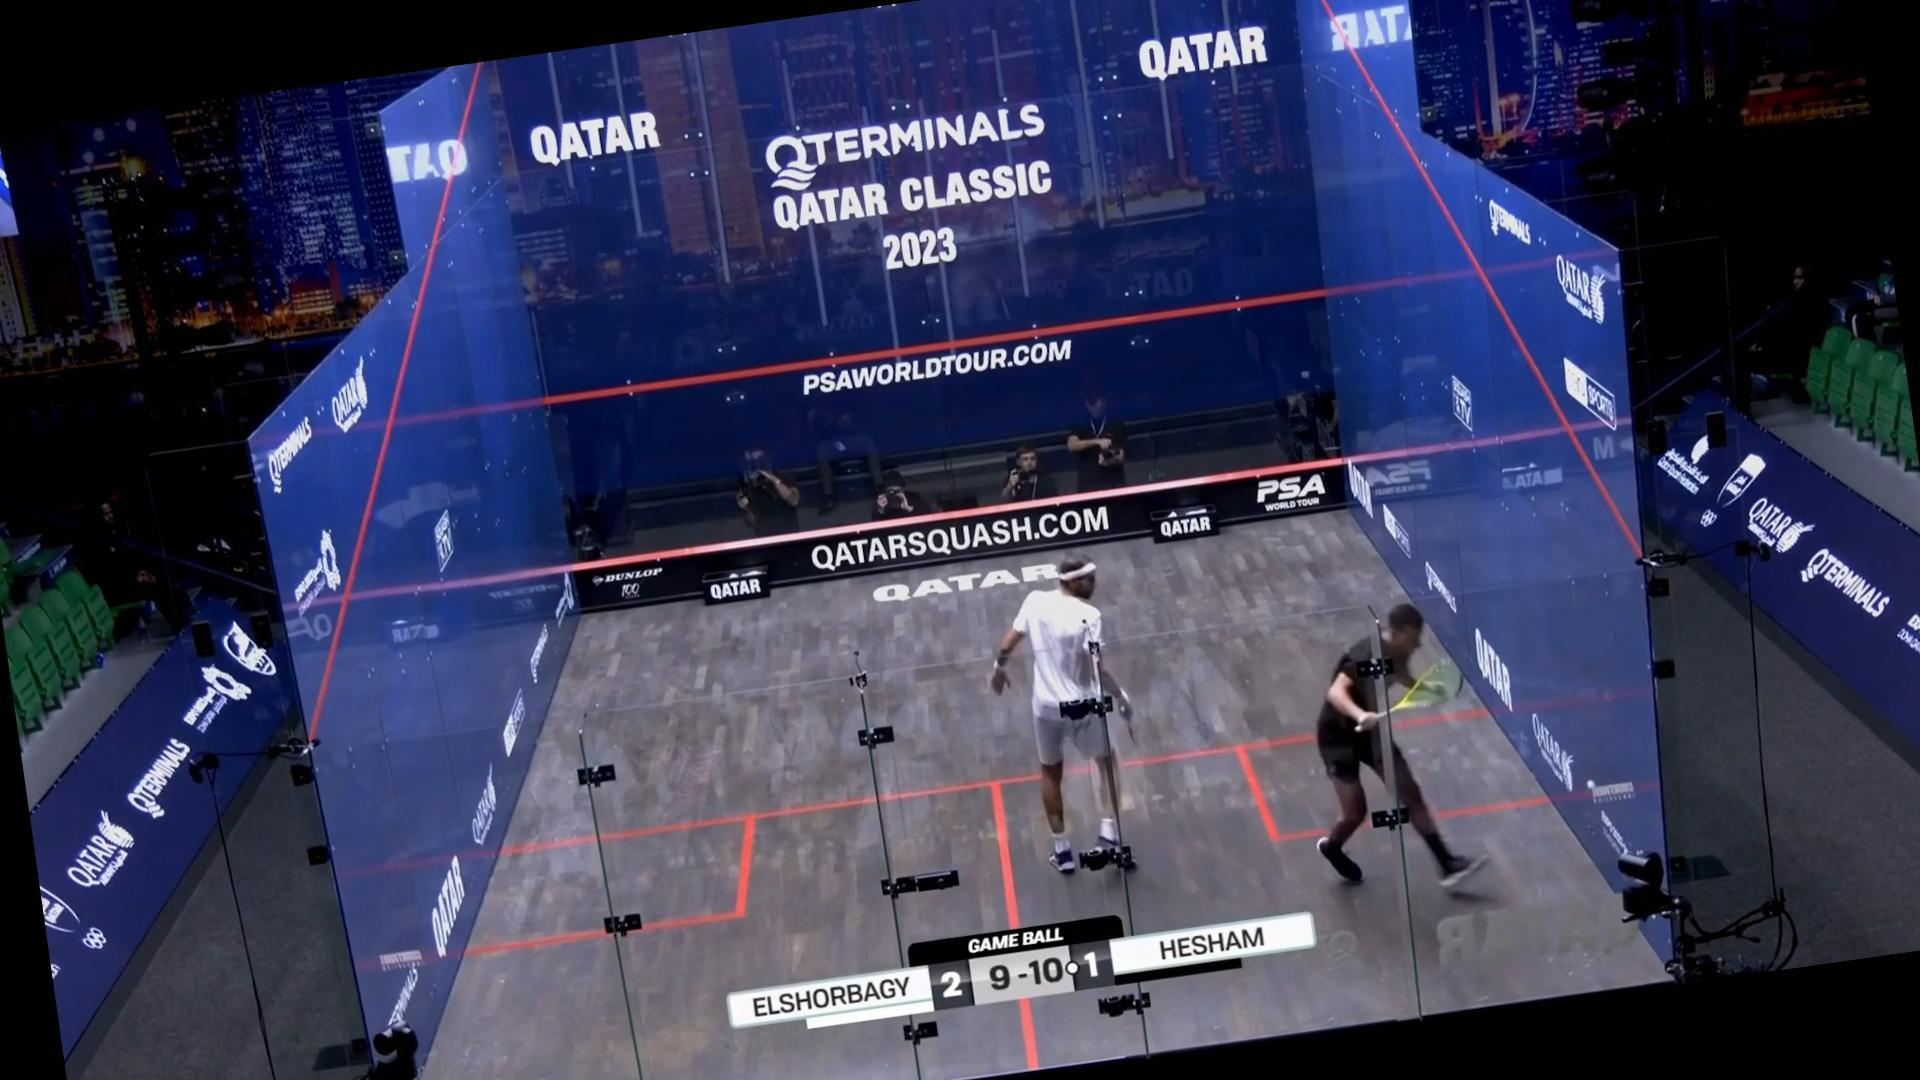Squash-Ball: (1578, 770, 1604, 795)
